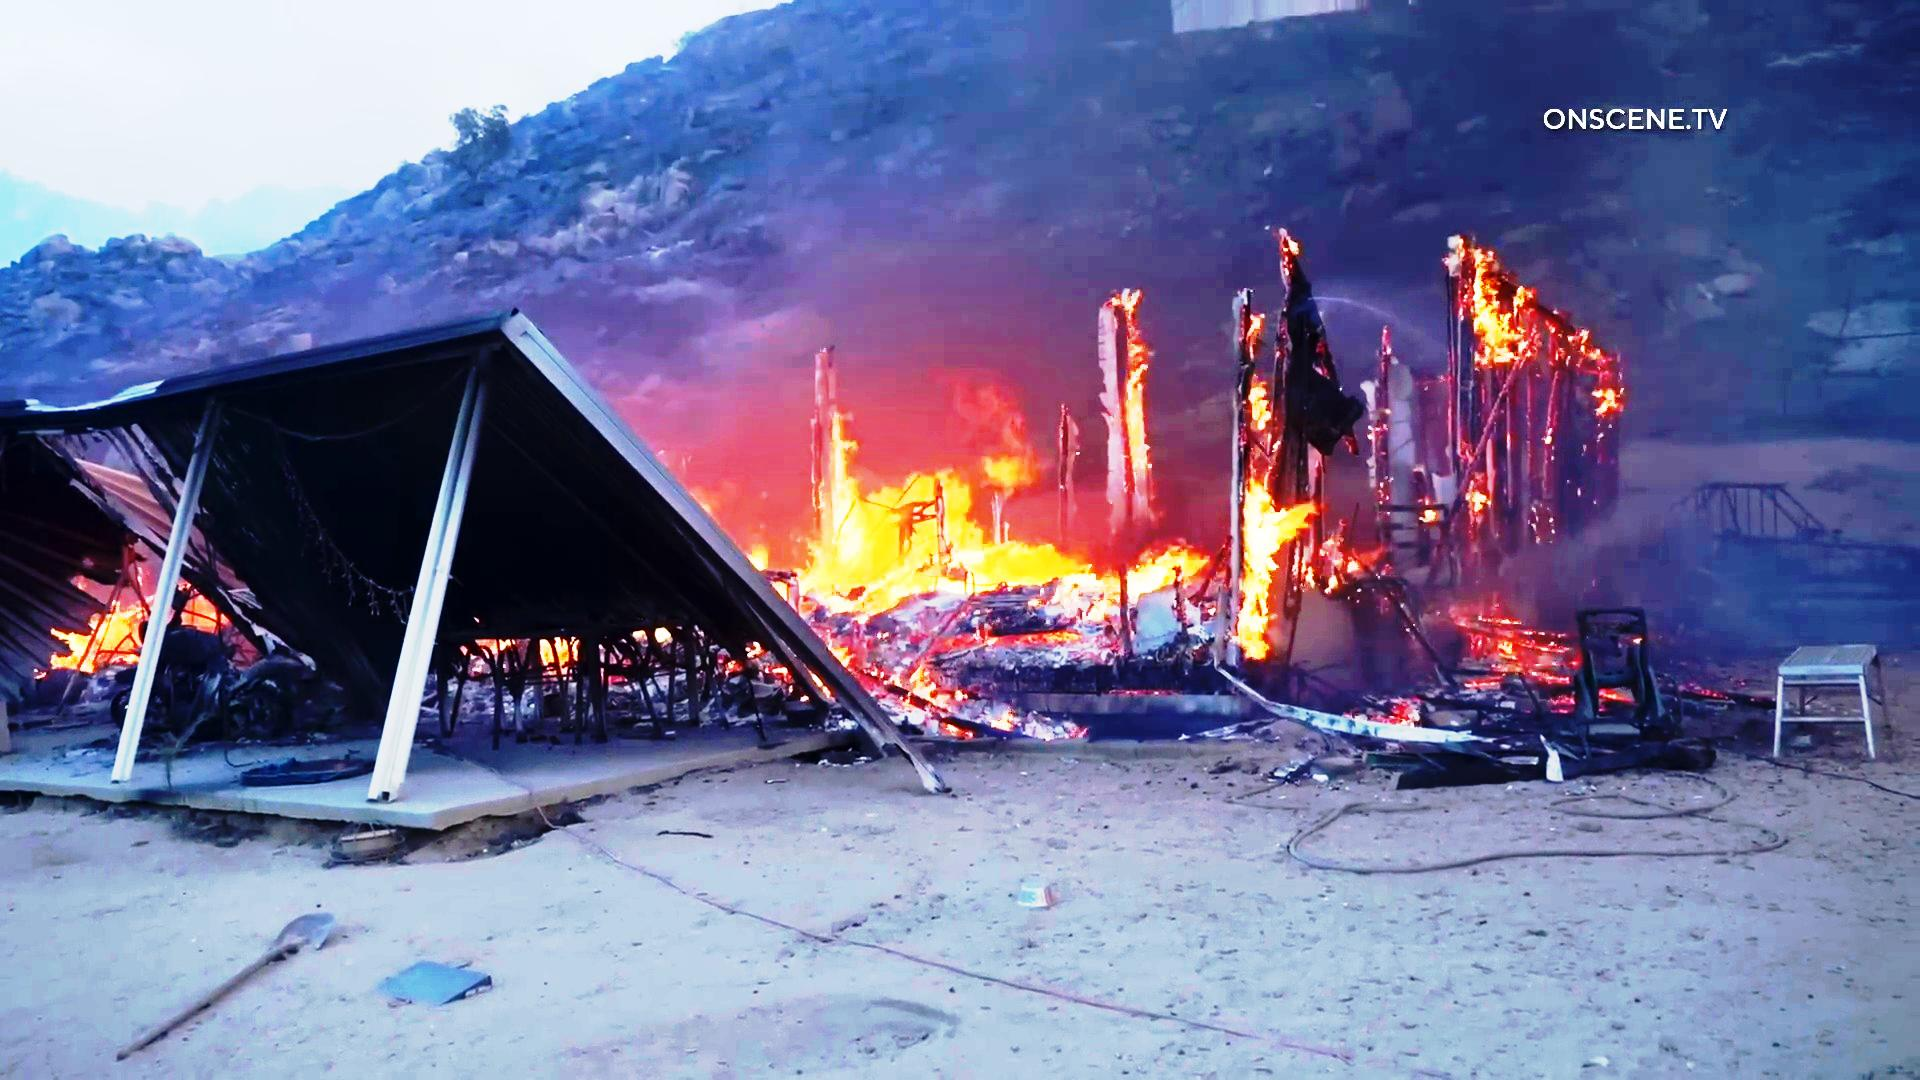fire: (720, 340, 1117, 616)
